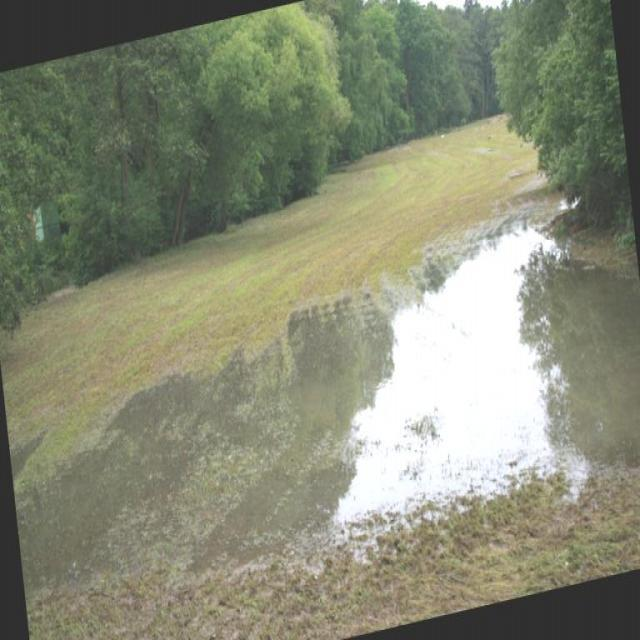flood: (199, 205, 640, 581)
